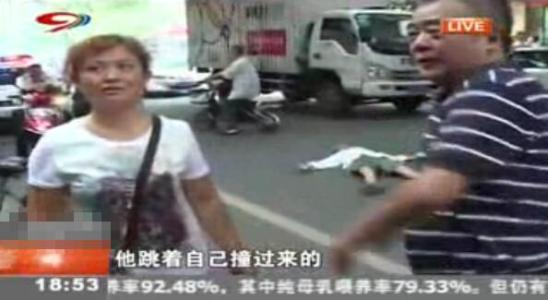fall: (297, 123, 425, 204)
